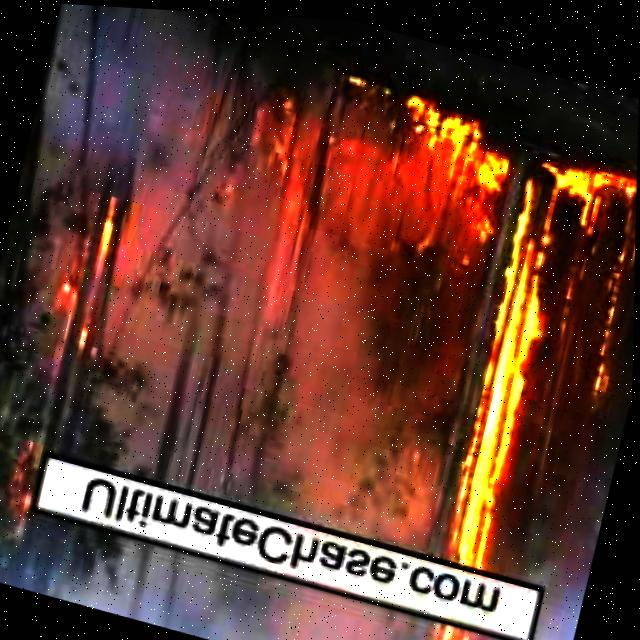Fire: (449, 149, 577, 567), (375, 90, 507, 238), (613, 164, 638, 219)
Smoke: (0, 130, 518, 548), (0, 498, 573, 640)
